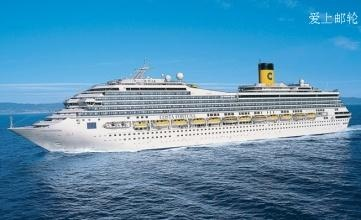youlun: (7, 62, 358, 153)
